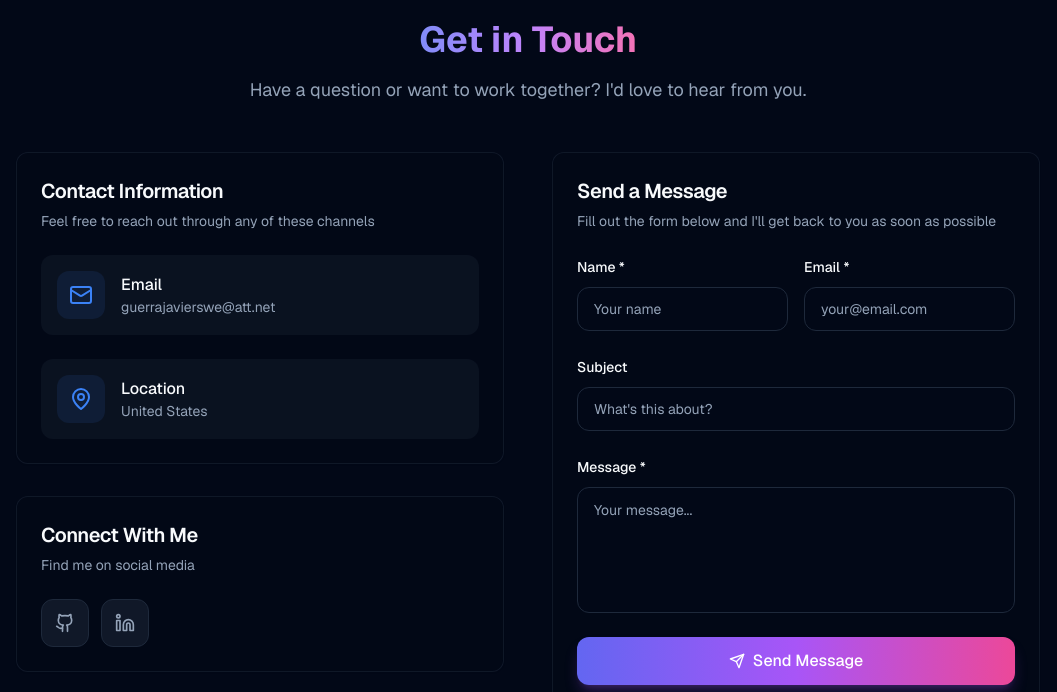
ContactPage › submits the form and shows the success state
Check: the heading "Get in Touch" is shown, box [419,16,637,63]
Type "Jane Doe" into the field labelled "Name *". click: [682, 309]
box: [577,287,788,331]
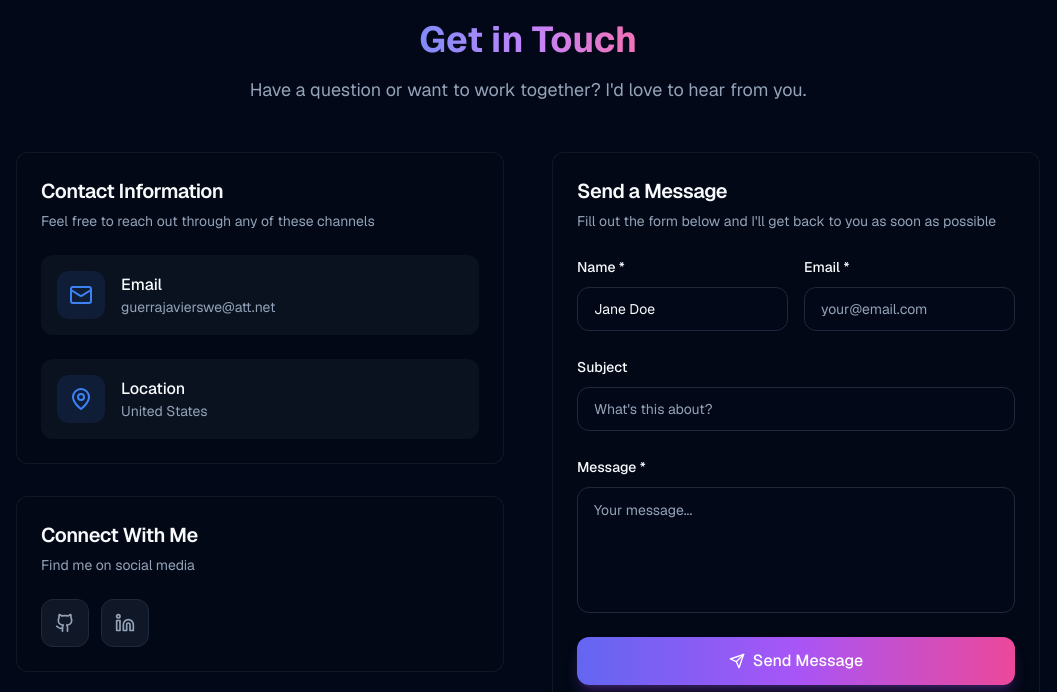
Type "jane@example.com" into the field labelled "Email *". click: [910, 309]
box: [804,287,1015,331]
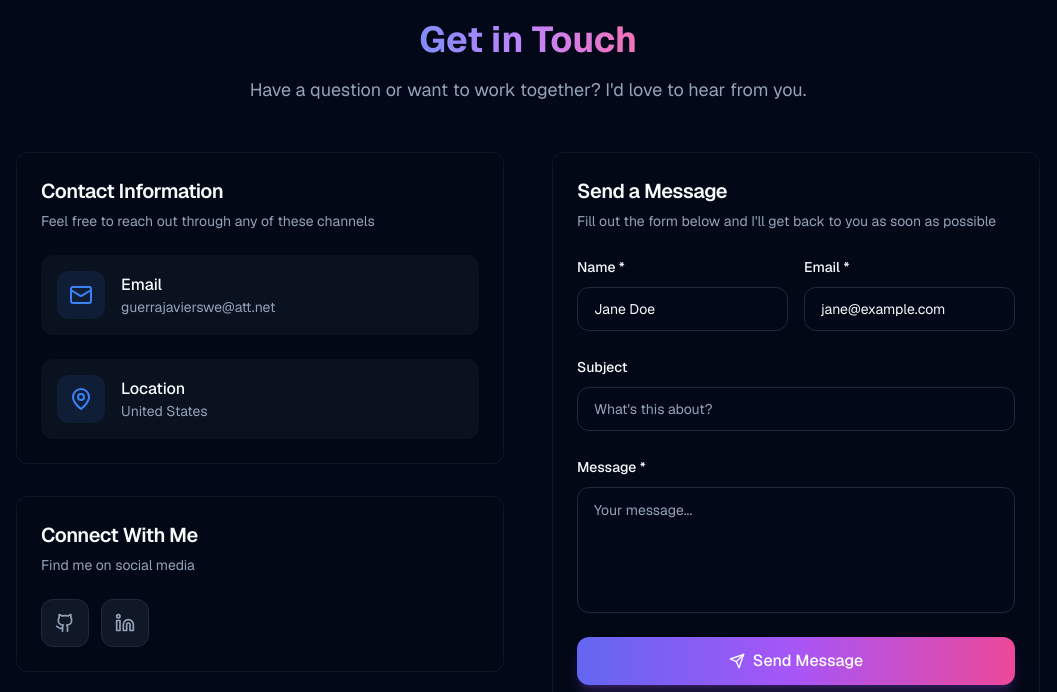
Type "Project inquiry" into the field labelled "Subject". click: [796, 409]
box: [577,387,1015,431]
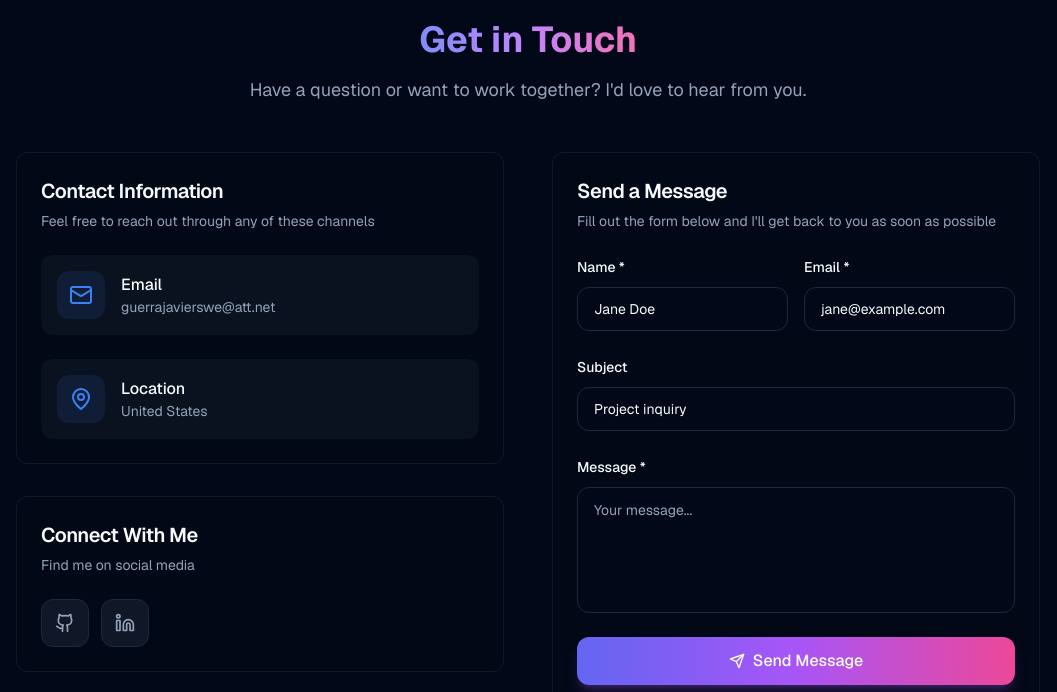
Type "Hello from the test suite." into the text box labelled "Message *". click: [796, 550]
box: [577,487,1015,613]
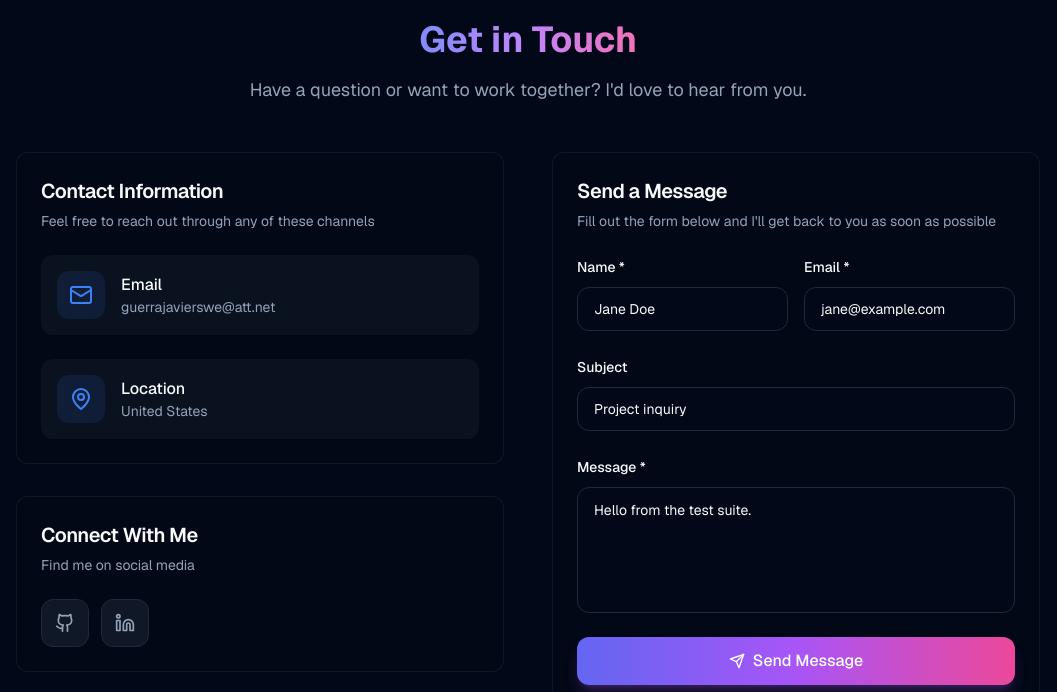
Click the button "Send Message". click: [796, 661]
box: [577,637,1015,685]
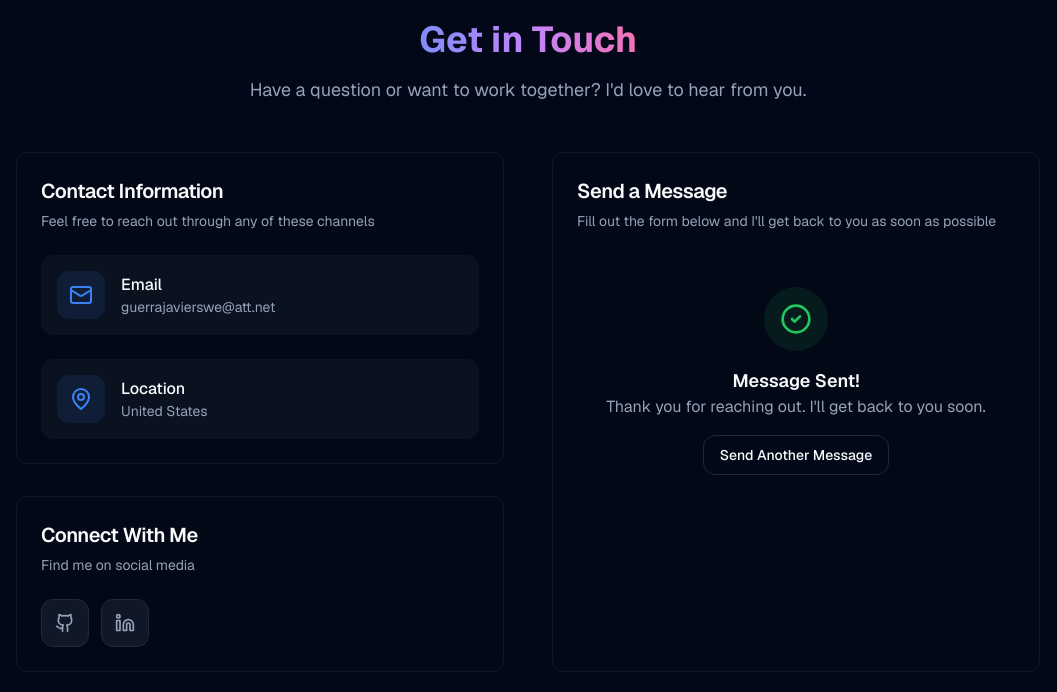
Check: the heading "Message Sent!" is shown, box [732,369,860,392]
